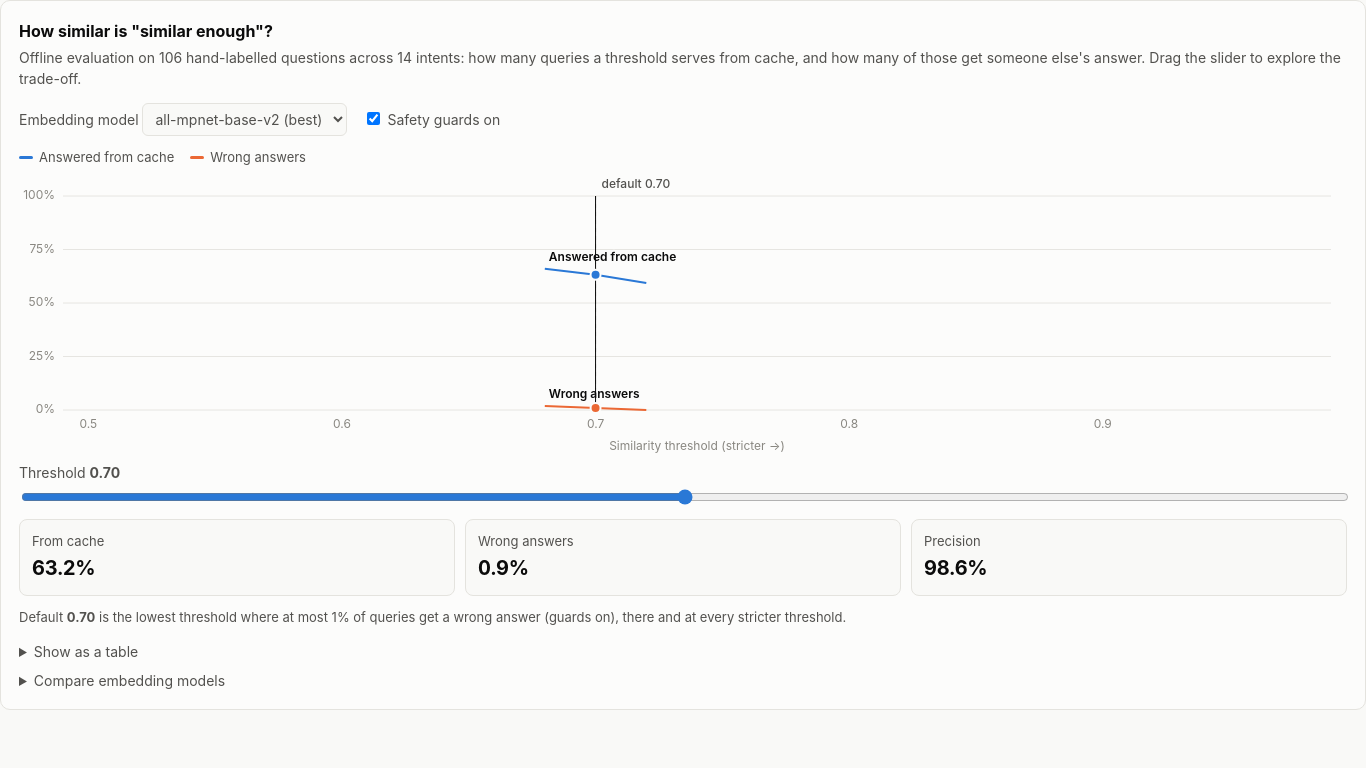
ThresholdExplorer › updates the readout when the slider moves
This screenshot has width=1366, height=768.
Set the slider to "0.72" at x=1341, y=496, box x1=21 y1=488 x2=1349 y2=504
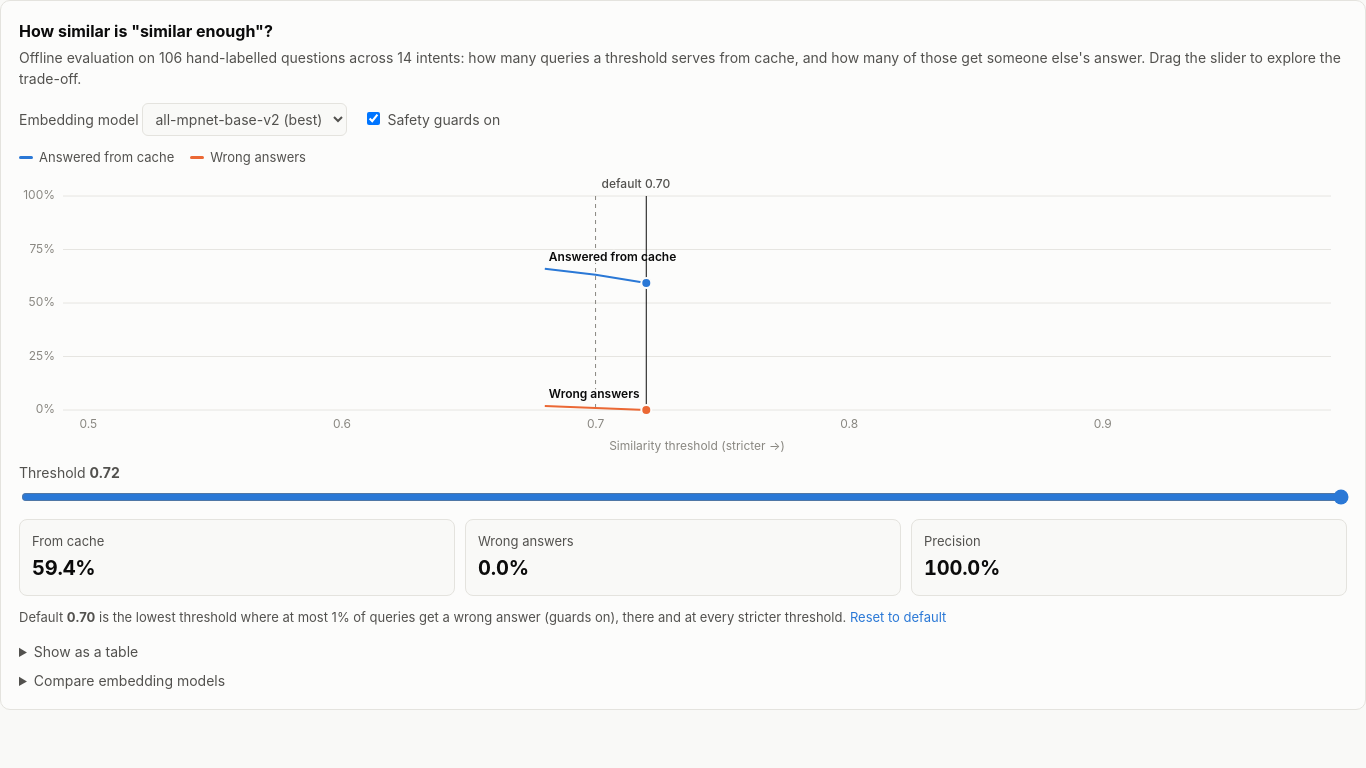
Check: the text "59.4%" is shown, box x1=32 y1=556 x2=96 y2=580
Check: the text "0.0%" is shown, box x1=478 y1=556 x2=529 y2=580
Check: the button "Reset to default" is shown, box x1=850 y1=608 x2=946 y2=628
